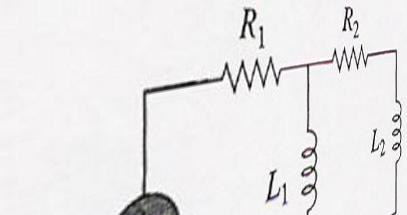resistor: (203, 57, 288, 92), (326, 37, 372, 78)
